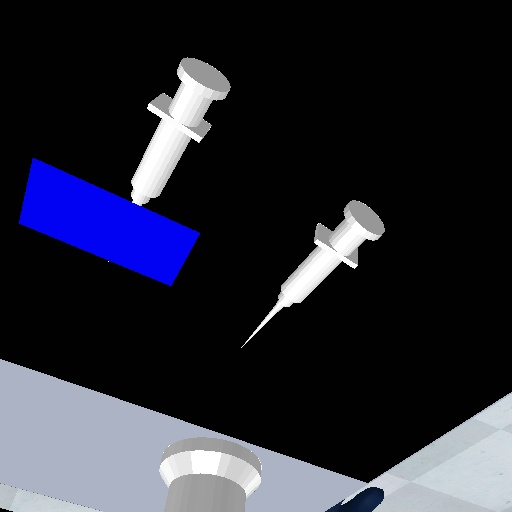jeringuilla: (239, 191, 388, 355), (128, 53, 233, 208)
